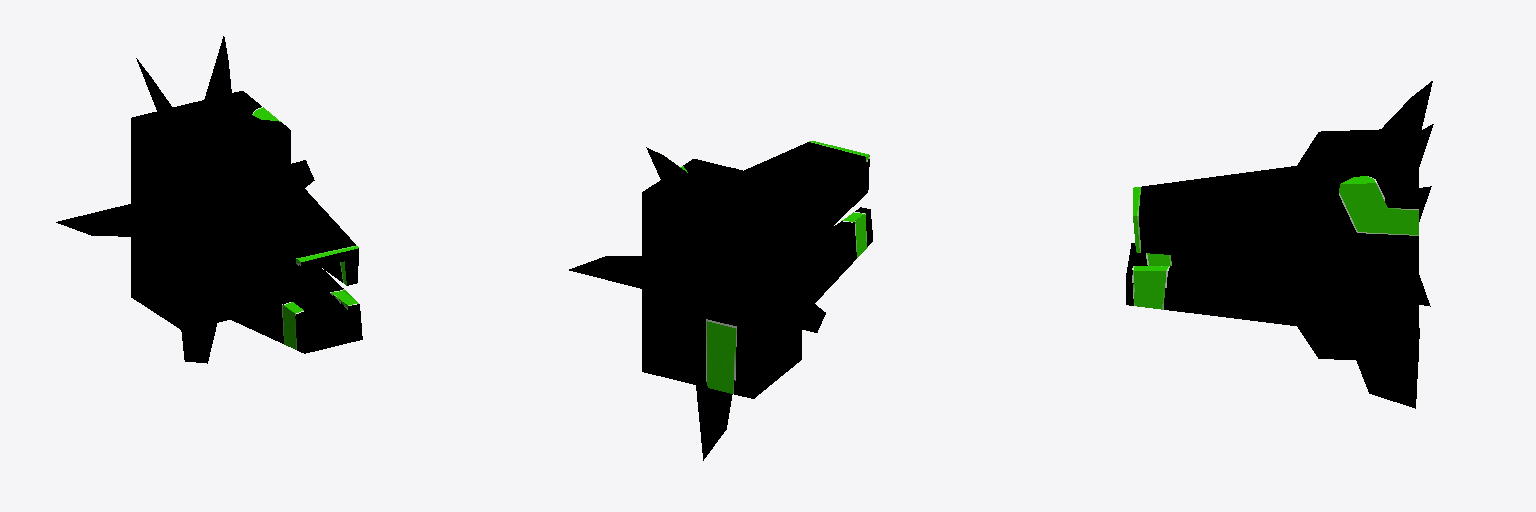
3 renders of one model, left to right at view 1: azimuth 30°, elevation 25°; view 2: azimuth 150°, elevation 25°; view 3: azimuth 270°, elevation 25°, orthographic.
Bounding box in the file's own units: 16.37 × 19.3 × 17.45.
Materials: 1 (1 with a texture image).